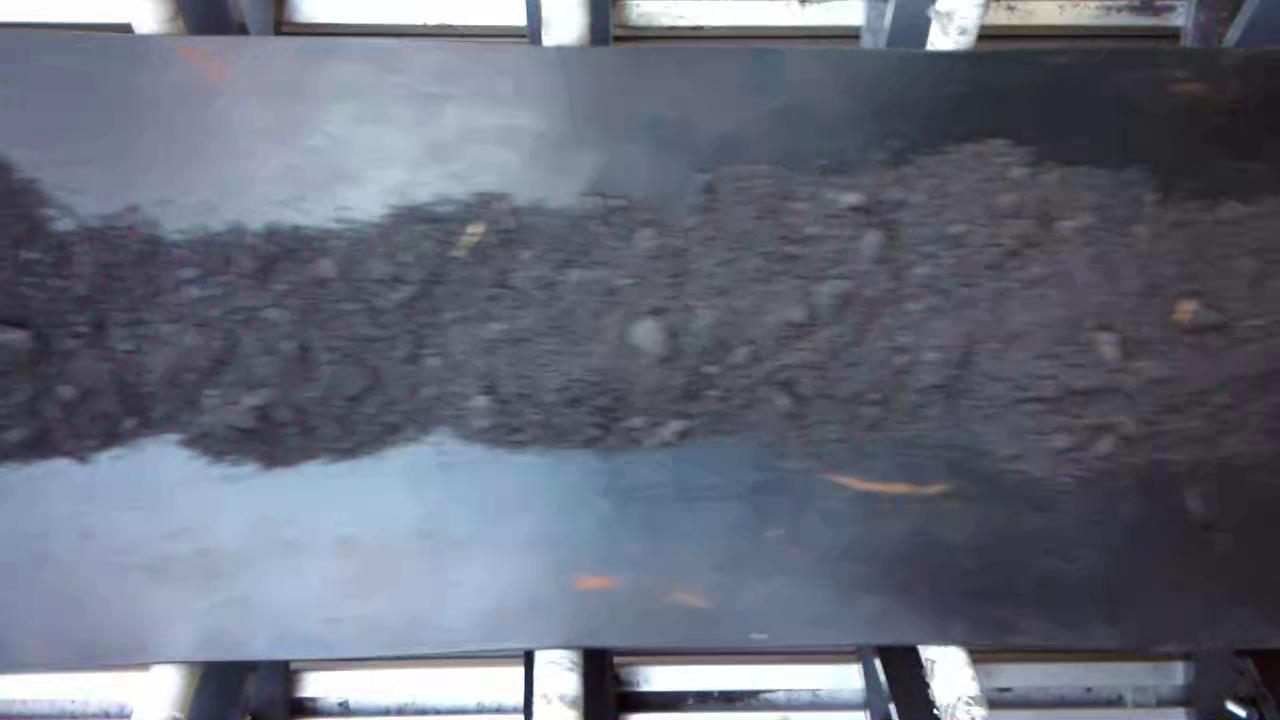conveyor: (0, 50, 1280, 647)
